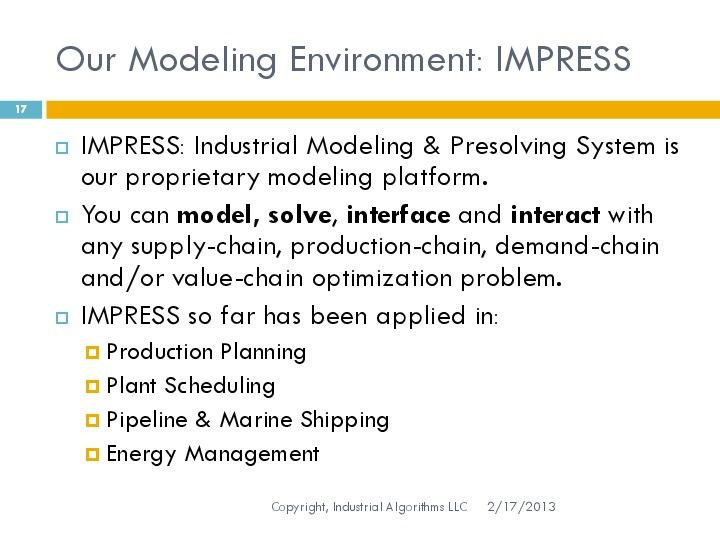paragraph: (42, 126, 719, 481)
title: (50, 34, 640, 86)
